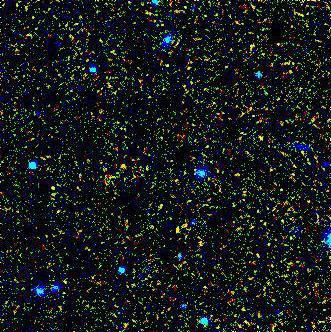star: (162, 215, 192, 245)
